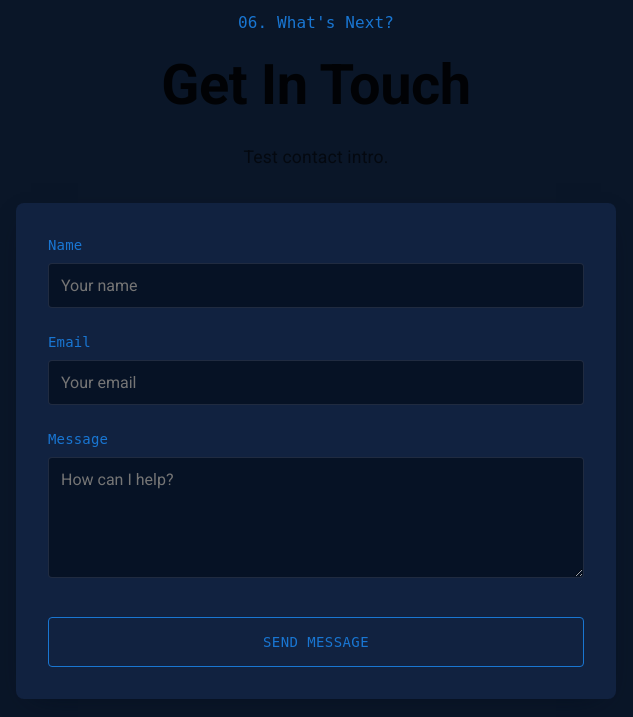
Test: Contact Component — Extended 2FA Tests › OTP send failure › should show error on network failure
# Fill form and submit inside act to handle all resulting state updates
Type "Test User" into the field with placeholder "Your name" at (316, 285), box [48, 263, 584, 308]
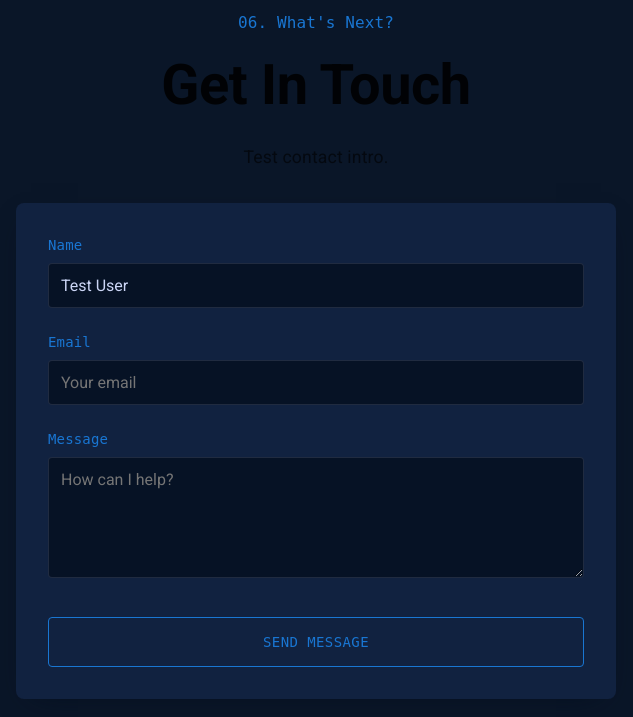
Type "test@example.com" into the field with placeholder "Your email" at (316, 382), box [48, 360, 584, 405]
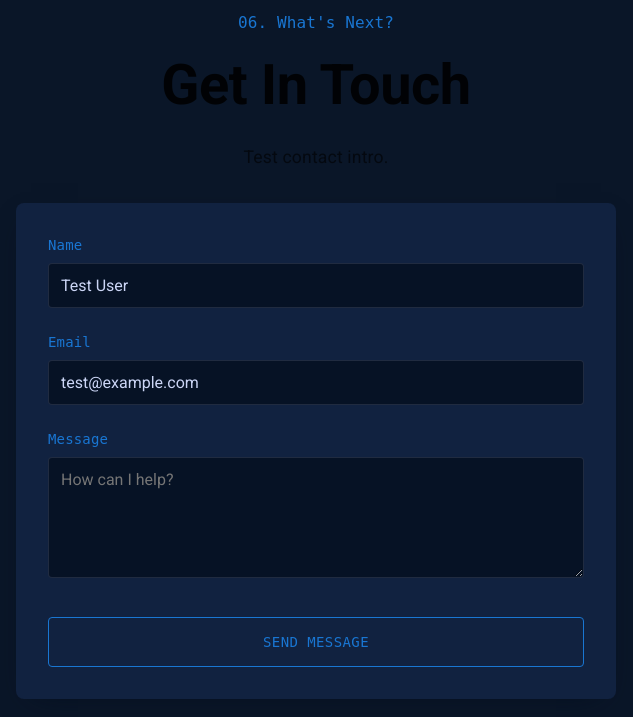
Type "Hello world" into the text box with placeholder "How can I help?" at (316, 518), box [48, 457, 584, 578]
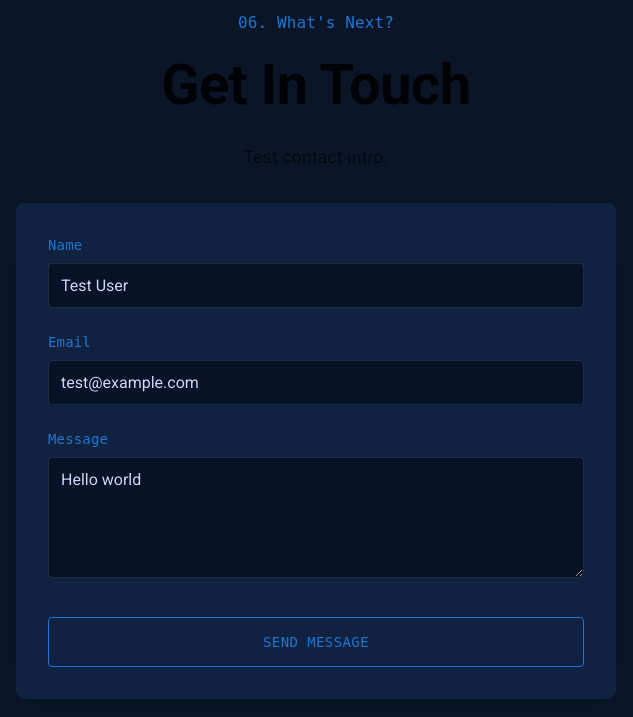
Click the button "Send Message" at (316, 642), box [48, 617, 584, 668]
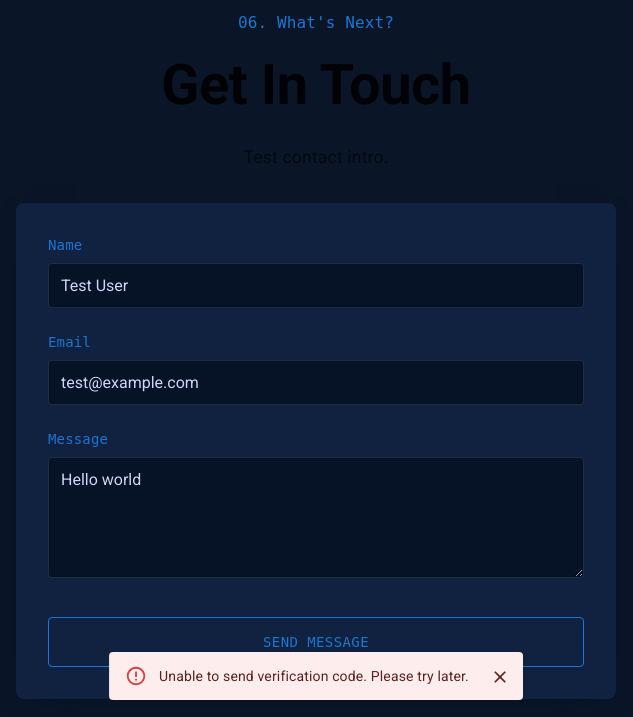
Now the message shows "Unable to send verification code", box [159, 668, 469, 684]
